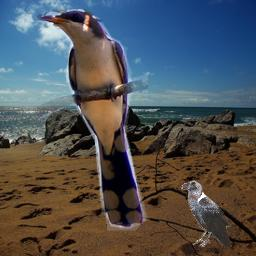Crow: (181, 180, 232, 247)
Cuckoo: (37, 9, 148, 231)
